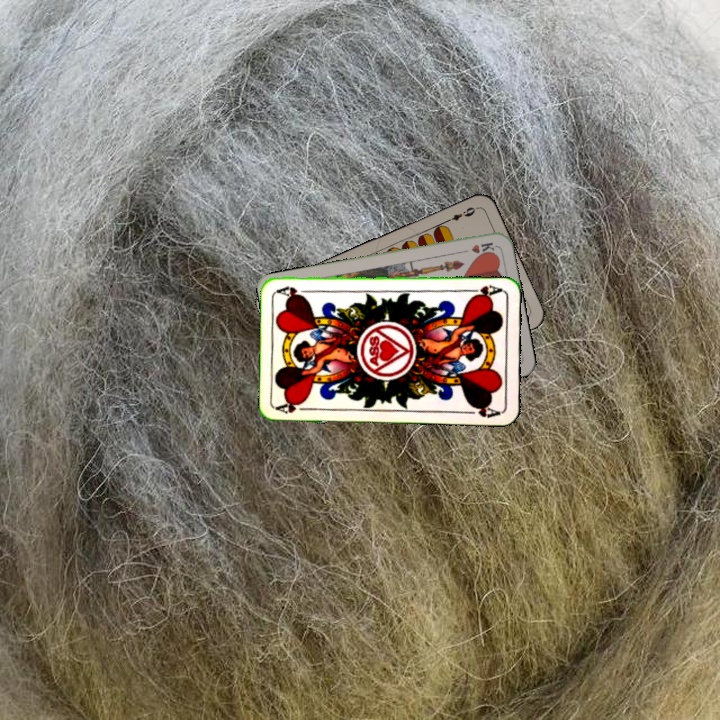E9: (441, 203, 480, 225)
HA: (464, 281, 504, 300), (274, 399, 314, 416)
HK: (457, 238, 497, 257)
